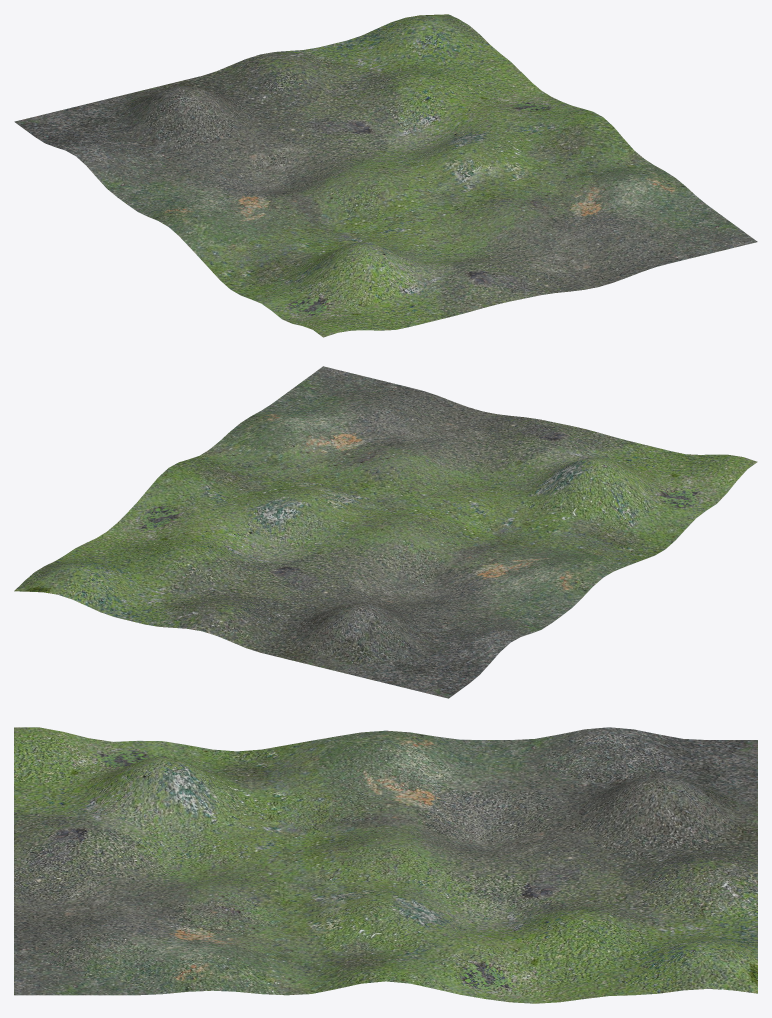
File: terreno.fbx
The picture shows the model from 3 angles, top to bottom: view 1: azimuth 30°, elevation 25°; view 2: azimuth 150°, elevation 25°; view 3: azimuth 270°, elevation 25°; orthographic projection. The views are drawn at different scales.
Parts seen in each view (by area): view 1: pPlane1; view 2: pPlane1; view 3: pPlane1.
Boxes of the visible parts, x1=… form: pPlane1: x1=14, y1=14, x2=757, y2=337; pPlane1: x1=14, y1=366, x2=757, y2=698; pPlane1: x1=14, y1=727, x2=757, y2=1003.
Size of the model in its own units: 11709 by 1231 by 14424.
Materials: 1 (1 with a texture image).
